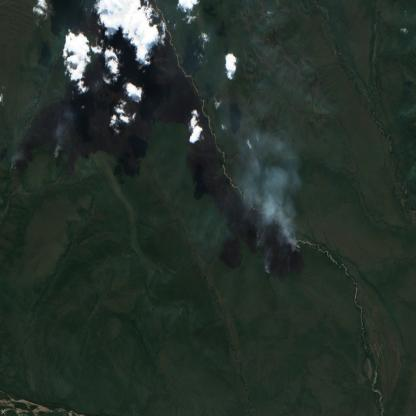fire: (250, 216, 304, 281)
